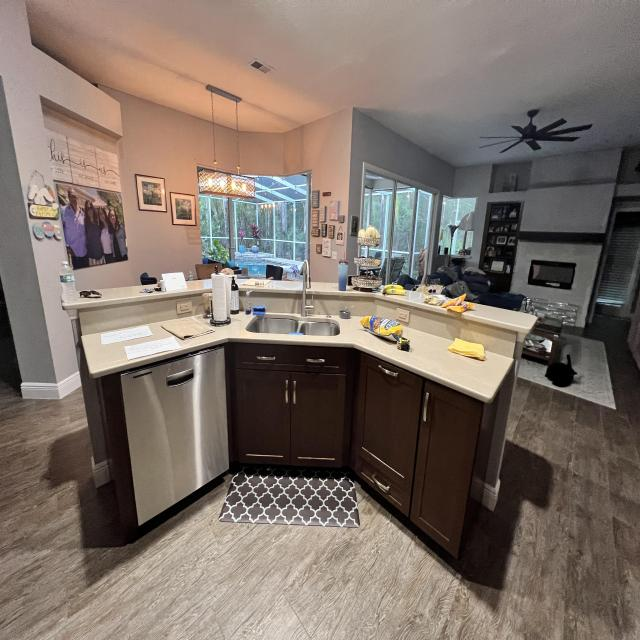Appliance_Dishwasher: (94, 346, 230, 531)
Appliance_Sink: (246, 260, 341, 337)
Cabinet_Shaker: (224, 343, 482, 558)
Countertop_Granite: (82, 315, 514, 398), (472, 305, 537, 327), (239, 280, 338, 290), (98, 286, 149, 299), (187, 279, 212, 291), (408, 291, 424, 302)
